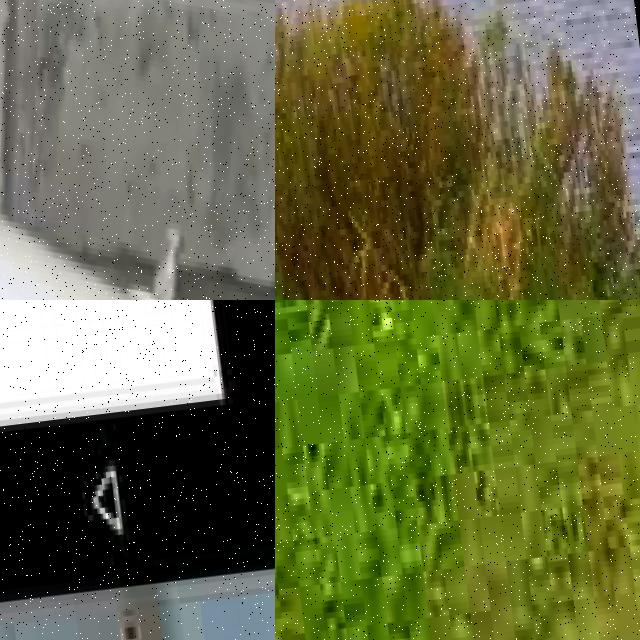drone: (0, 0, 275, 300)
